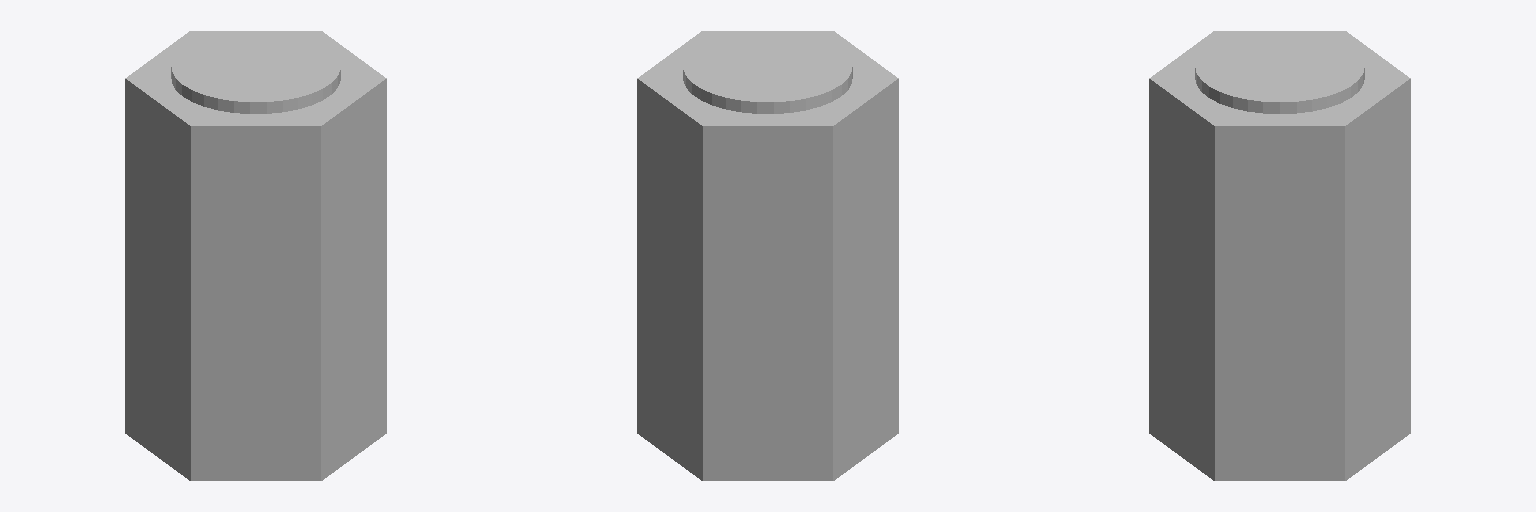
Rendered from PowerCell.obj.
3 views of the same model, side by side, from view 1: azimuth 30°, elevation 25°; view 2: azimuth 150°, elevation 25°; view 3: azimuth 270°, elevation 25° (orthographic).
Visible parts, largest first — view 1: Cylinder; view 2: Cylinder; view 3: Cylinder.
Part boxes in pixels (left/top/right/bottom): Cylinder: left=125, top=31, right=386, bottom=480; Cylinder: left=637, top=31, right=898, bottom=480; Cylinder: left=1149, top=31, right=1410, bottom=480.
Bounding box in the file's own units: 1.73 × 3.2 × 2.